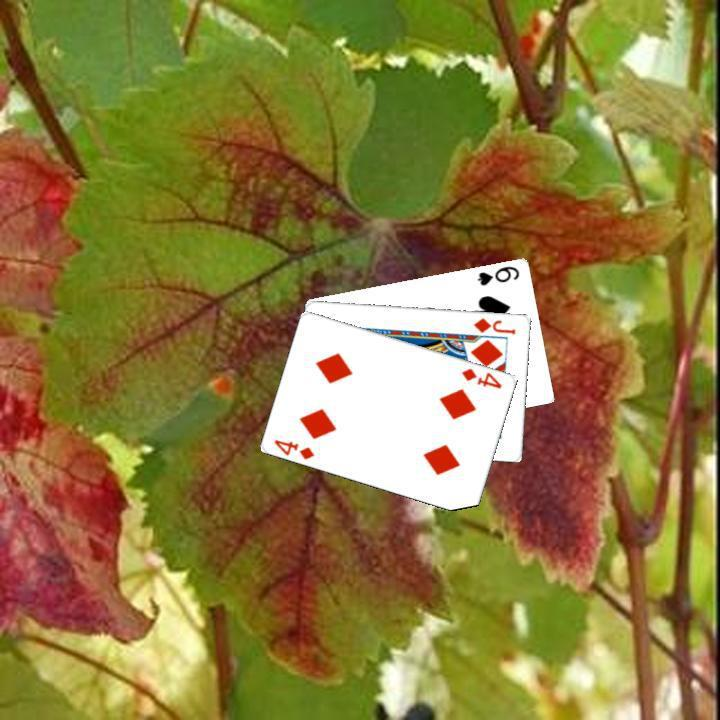4: (270, 435, 317, 462), (458, 363, 504, 390)
6: (473, 261, 521, 287)
J: (469, 313, 517, 336)
